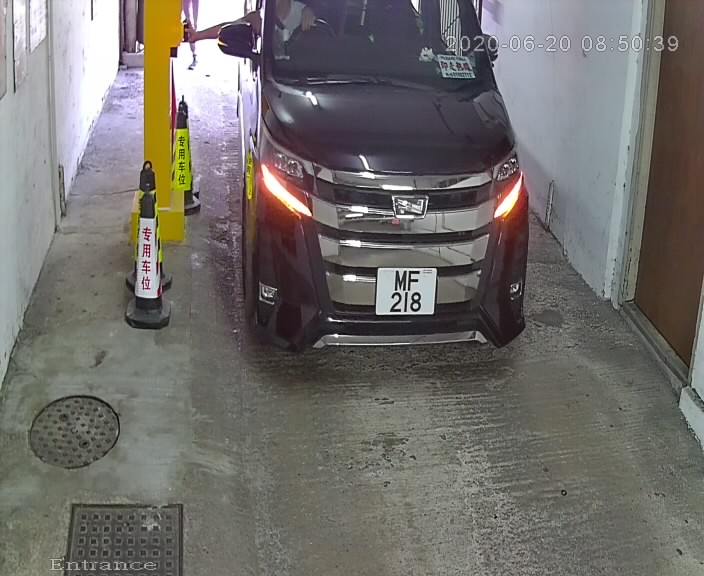privatecar: (203, 3, 544, 398)
